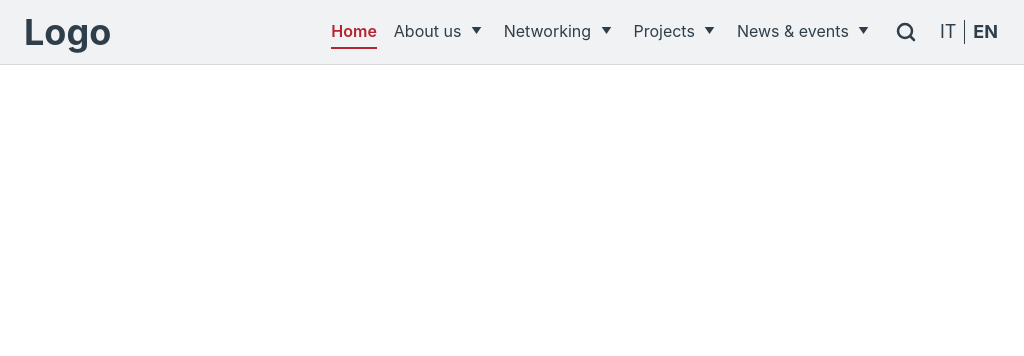
Scenario: HeaderNav › lists the latest 3 projects and "View all" in the Projects dropdown
Click the button named "Projects submenu". click: (710, 31)
box: [700, 19, 720, 43]
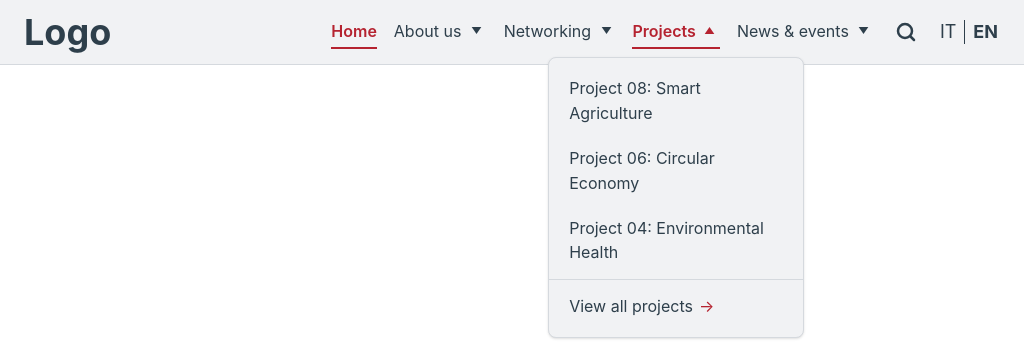
Result: the link "View all projects→" is shown at [569, 296, 714, 316]
